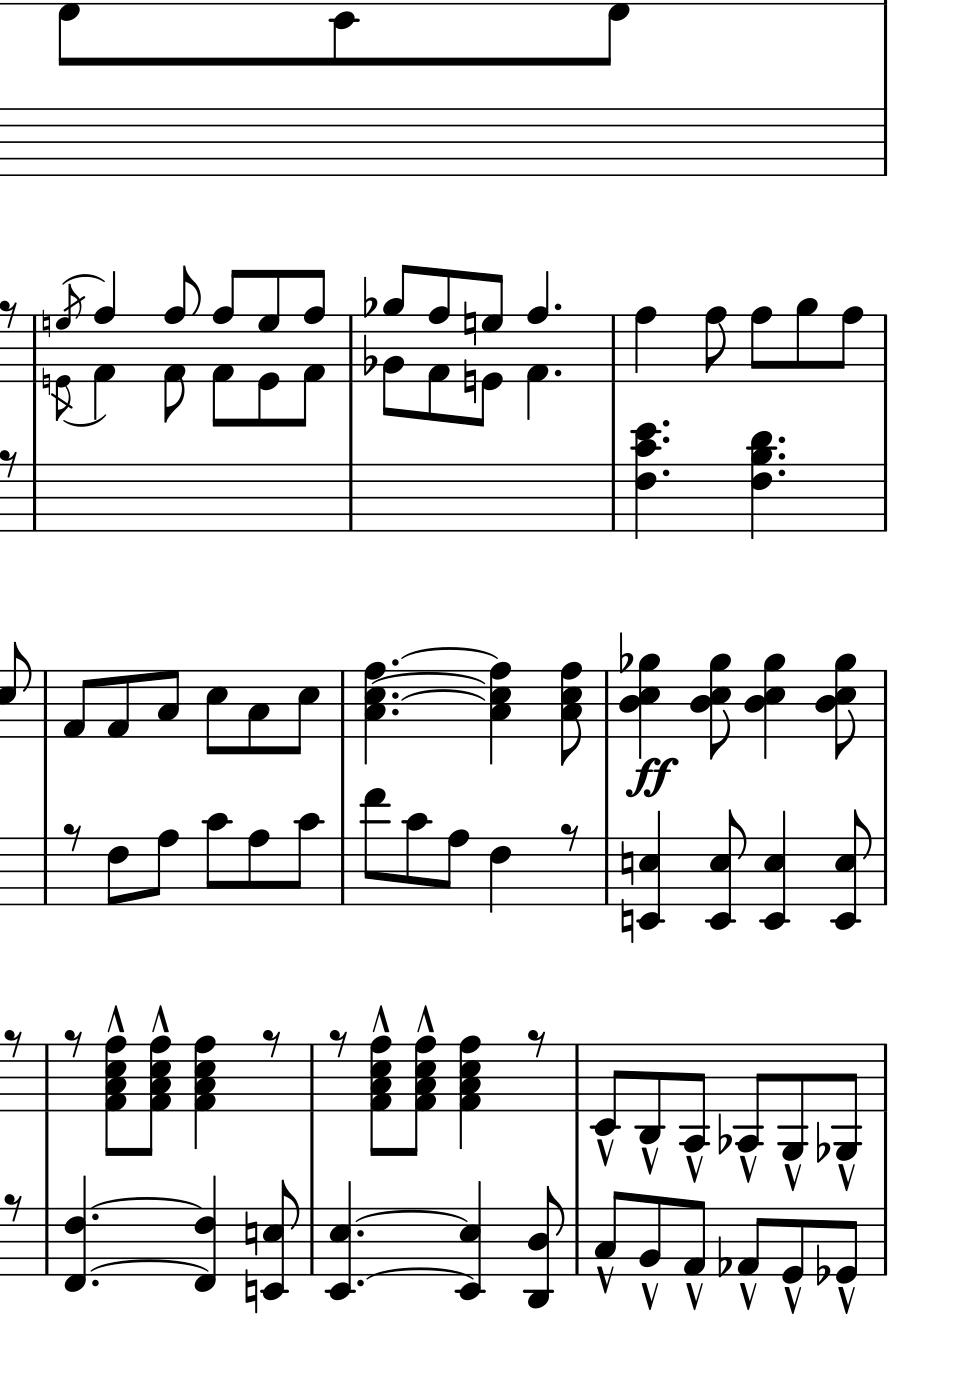4_-1_6: (62, 1176, 90, 1293), (191, 1175, 218, 1292)
4_-2_5: (323, 1181, 358, 1301), (453, 1181, 487, 1301), (634, 809, 667, 931), (757, 809, 790, 931)
4_1_8: (92, 270, 118, 421)
4_4th: (191, 1033, 217, 1150), (456, 1033, 482, 1150)
4_6: (487, 836, 512, 915)
4_8: (632, 305, 657, 384)
4_th: (746, 649, 787, 758), (619, 651, 658, 759), (626, 419, 655, 540), (746, 427, 774, 541), (363, 656, 386, 764), (489, 660, 511, 762)
8_-2: (589, 1042, 624, 1137)
8_-2_5: (704, 807, 747, 933), (829, 807, 872, 933), (258, 1181, 300, 1301)
8_-3: (636, 1043, 665, 1144)
8_-3_4: (522, 1185, 566, 1308)
8_-4: (733, 1041, 767, 1154), (679, 1040, 708, 1154)
8_-5: (778, 1041, 809, 1160), (832, 1041, 861, 1160)
8_0: (778, 1206, 805, 1286), (834, 1206, 859, 1285)
8_0_7: (478, 273, 506, 429), (256, 267, 282, 426)
8_1: (736, 1207, 767, 1277), (62, 668, 91, 739), (681, 1198, 706, 1279), (104, 668, 130, 739)
8_10: (287, 811, 321, 907), (203, 810, 229, 907), (402, 812, 428, 907)
8_13: (358, 788, 389, 906)
8_1_8: (162, 263, 202, 423), (210, 270, 244, 427), (296, 269, 327, 427), (426, 267, 453, 421), (525, 270, 550, 423)
8_2: (637, 1194, 662, 1277)
8_2_9: (381, 264, 412, 422)
8_3: (592, 1190, 624, 1275), (245, 668, 270, 756), (155, 668, 180, 739)
8_4th: (403, 1037, 438, 1156), (139, 1037, 173, 1156), (367, 1034, 392, 1158), (103, 1036, 127, 1156)
8_5: (288, 668, 319, 757), (203, 668, 228, 757)
8_6: (105, 835, 129, 908)
8_8: (832, 304, 865, 384), (146, 828, 177, 908), (438, 828, 469, 907), (748, 305, 773, 384), (702, 305, 727, 385), (246, 828, 269, 908)
8_9: (794, 297, 819, 384)
8_th: (813, 650, 861, 758), (692, 648, 733, 755), (558, 657, 587, 768)
Acciaccature: (51, 283, 86, 386), (53, 315, 81, 424)
Flat: (616, 629, 635, 676), (360, 273, 378, 318), (360, 333, 377, 378), (715, 1233, 731, 1279), (813, 1120, 829, 1164), (813, 1243, 829, 1287), (715, 1112, 731, 1156)
Marcato_above: (638, 1144, 662, 1178), (638, 1280, 662, 1310), (104, 1004, 126, 1034), (148, 1004, 171, 1034), (369, 1004, 391, 1034), (782, 1162, 804, 1192), (414, 1005, 436, 1034), (685, 1154, 704, 1185), (739, 1155, 758, 1185), (783, 1286, 803, 1314), (596, 1138, 615, 1166), (596, 1264, 615, 1293), (739, 1281, 758, 1310), (686, 1281, 704, 1309)
Natural: (618, 839, 635, 888), (242, 1208, 259, 1257), (461, 300, 478, 347), (619, 898, 635, 945), (461, 357, 476, 404), (243, 1267, 258, 1314), (40, 309, 51, 340), (40, 366, 51, 397)
Rests8: (62, 1027, 84, 1059), (3, 1028, 24, 1060), (526, 1027, 547, 1059), (559, 822, 580, 854), (3, 1192, 24, 1224), (261, 1027, 281, 1059), (328, 1027, 348, 1059), (62, 822, 83, 853), (1, 299, 19, 331), (1, 450, 19, 481)
Single_barline: (875, 464, 893, 531), (876, 314, 893, 382), (605, 464, 622, 531), (598, 670, 615, 737), (876, 109, 893, 175), (334, 838, 351, 903), (876, 668, 892, 738), (605, 316, 622, 381), (876, 837, 892, 906), (877, 1043, 893, 1112), (335, 670, 351, 738), (598, 837, 614, 905), (877, 1208, 893, 1276), (343, 464, 358, 531), (37, 670, 53, 737), (568, 1045, 584, 1111), (25, 464, 41, 530), (303, 1045, 319, 1110), (343, 317, 358, 382), (304, 1208, 319, 1275), (37, 838, 52, 903), (570, 1208, 584, 1274), (40, 1045, 54, 1110), (39, 1209, 53, 1275), (27, 316, 40, 381)
Slur: (363, 1264, 469, 1283), (349, 1208, 466, 1224), (91, 1258, 210, 1271), (87, 1194, 202, 1208), (404, 646, 496, 661), (399, 689, 486, 702), (65, 414, 105, 429), (62, 273, 105, 286)
Tremolo_bar: (837, 1162, 857, 1193), (836, 1285, 857, 1314)
dot: (660, 434, 673, 448), (659, 466, 672, 479), (775, 466, 788, 479), (660, 418, 672, 431), (775, 434, 787, 448), (552, 367, 564, 379), (776, 450, 788, 462), (354, 1227, 366, 1240), (354, 1276, 365, 1289), (552, 301, 563, 313), (89, 1211, 101, 1223), (389, 689, 400, 701), (389, 707, 400, 719), (90, 1277, 100, 1289), (389, 657, 400, 668)
ff: (626, 757, 678, 800)
